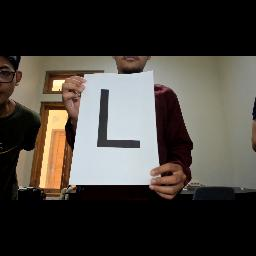l: (92, 86, 154, 162)
